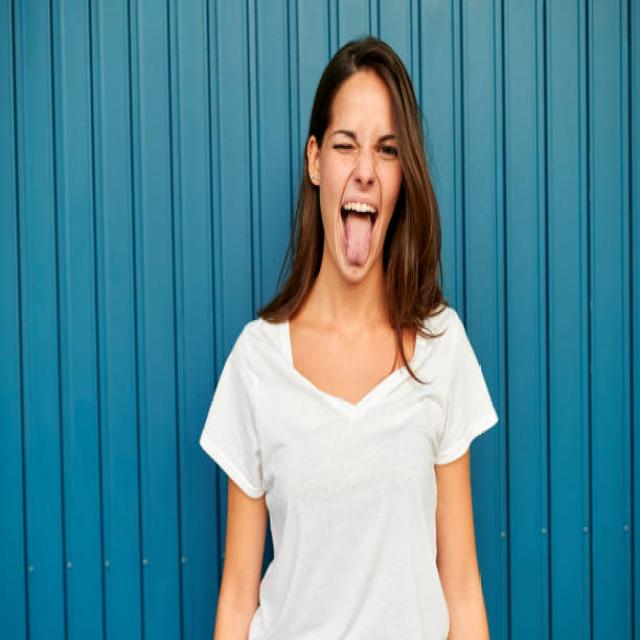tongue: (343, 212, 373, 269)
